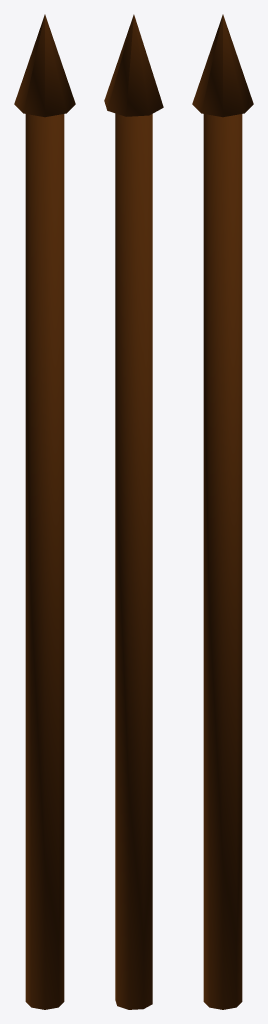
The model's file is WoodArrow.FBX.
The picture shows the model from 3 angles, left to right: view 1: azimuth 90°, elevation 25°; view 2: azimuth 210°, elevation 25°; view 3: azimuth 270°, elevation 25°; orthographic projection.
Visible parts, largest first — view 1: Cylinder001; view 2: Cylinder001; view 3: Cylinder001.
Boxes of the visible parts, bbox=[...] form: Cylinder001: bbox=[14, 14, 75, 1009]; Cylinder001: bbox=[104, 14, 163, 1009]; Cylinder001: bbox=[192, 14, 253, 1009].
Size of the model in its own units: 13.15 by 233 by 13.15.
